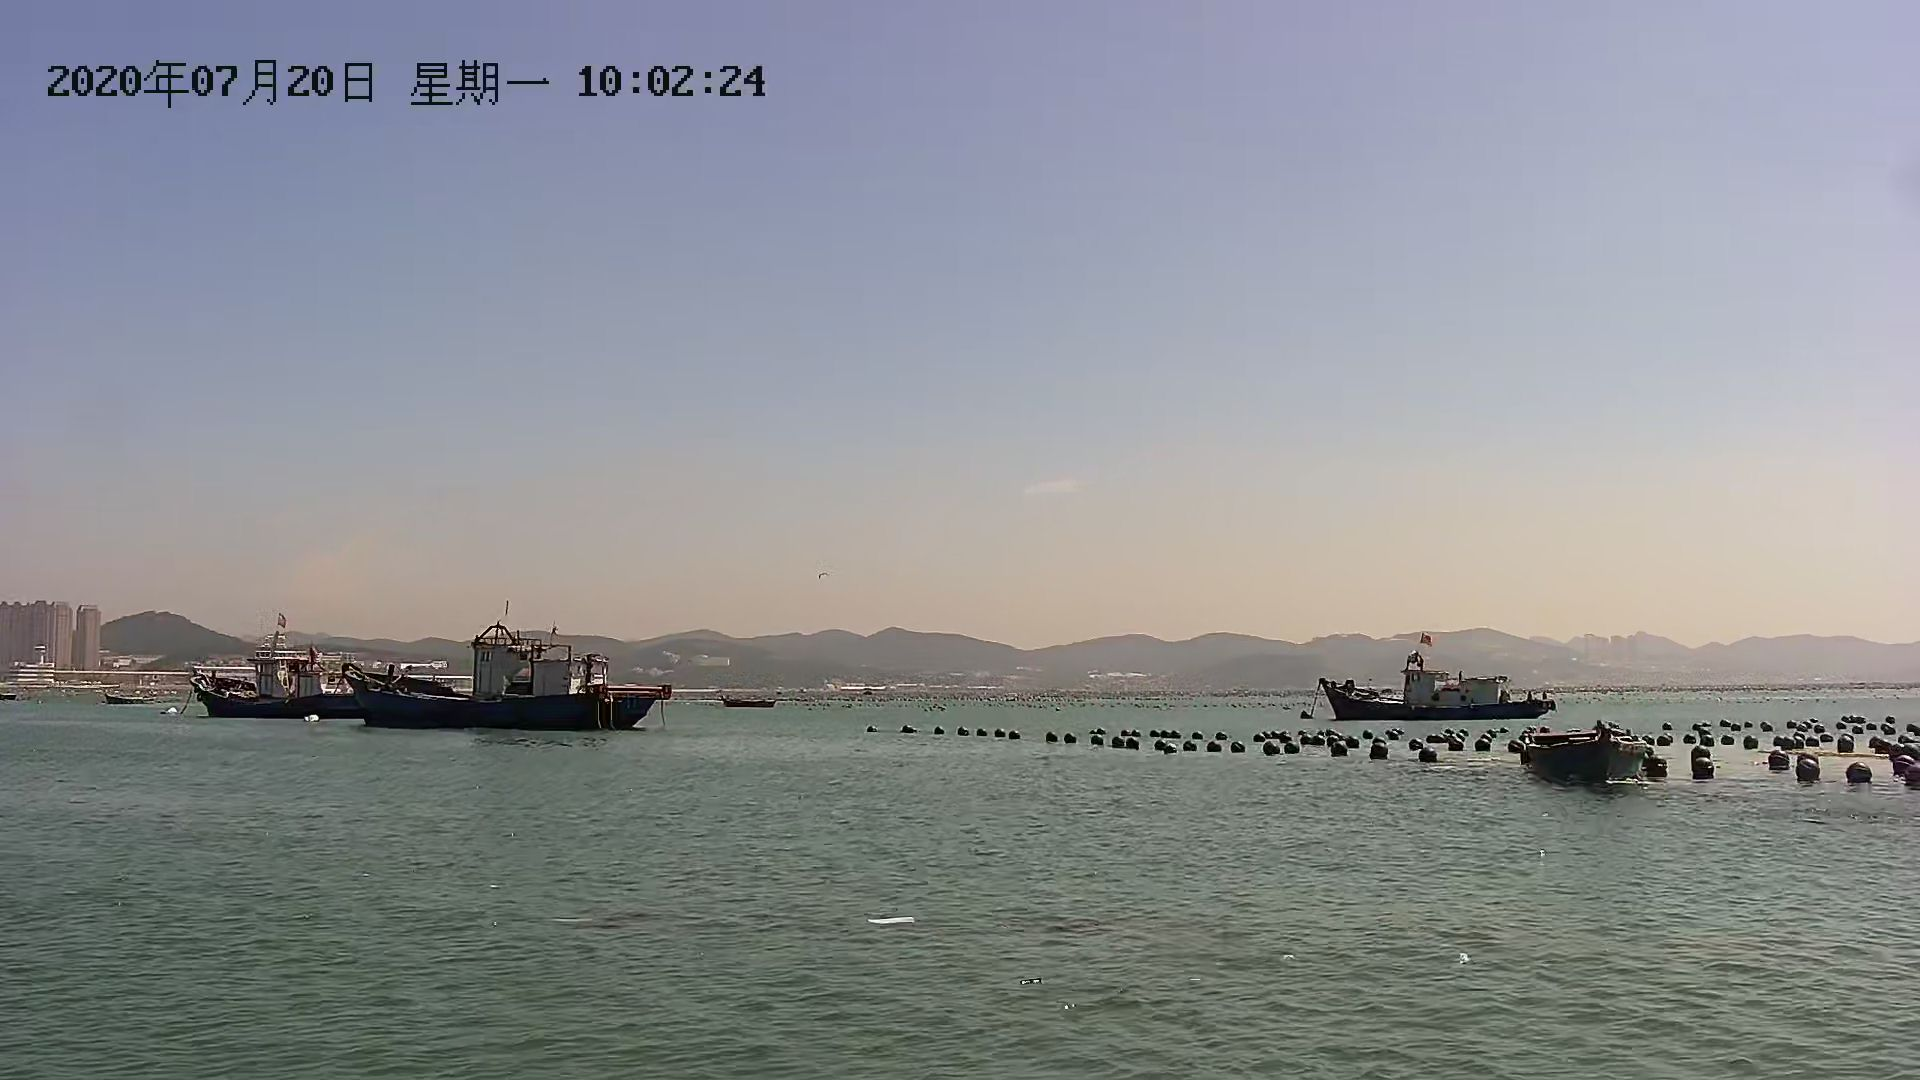ball: (1842, 760, 1876, 789), (1796, 756, 1822, 789), (1767, 744, 1791, 777), (1364, 741, 1395, 764), (1691, 758, 1718, 779), (1327, 738, 1350, 760), (1418, 744, 1439, 765)
boat: (1514, 719, 1664, 789), (716, 688, 787, 713)
ship: (351, 628, 674, 745), (1315, 653, 1555, 721), (194, 633, 357, 723)
